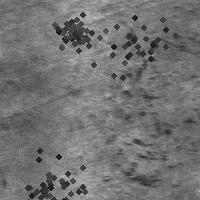rolled-in_scale: (101, 33, 188, 193), (87, 0, 185, 92), (0, 138, 99, 200), (46, 5, 96, 55)
